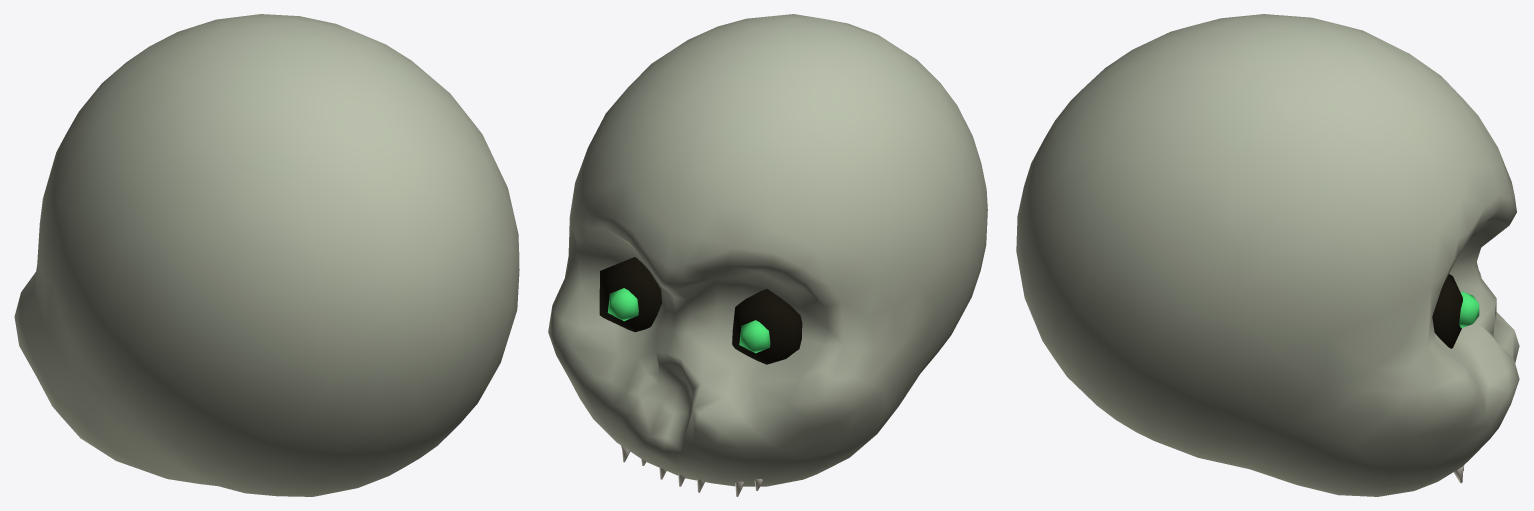
File: cursed_skull.glb
3 views of the same model, side by side, from view 1: azimuth 30°, elevation 25°; view 2: azimuth 150°, elevation 25°; view 3: azimuth 270°, elevation 25° (orthographic). The views are drawn at different scales.
Parts seen in each view (by area): view 1: cursed_skull; view 2: cursed_skull; view 3: cursed_skull.
Boxes of the visible parts, left/top/right/bottom form: cursed_skull: left=14, top=14, right=519, bottom=496; cursed_skull: left=548, top=14, right=987, bottom=496; cursed_skull: left=1016, top=14, right=1519, bottom=496.
Size of the model in its own units: 0.7379 by 0.8049 by 0.8386.
